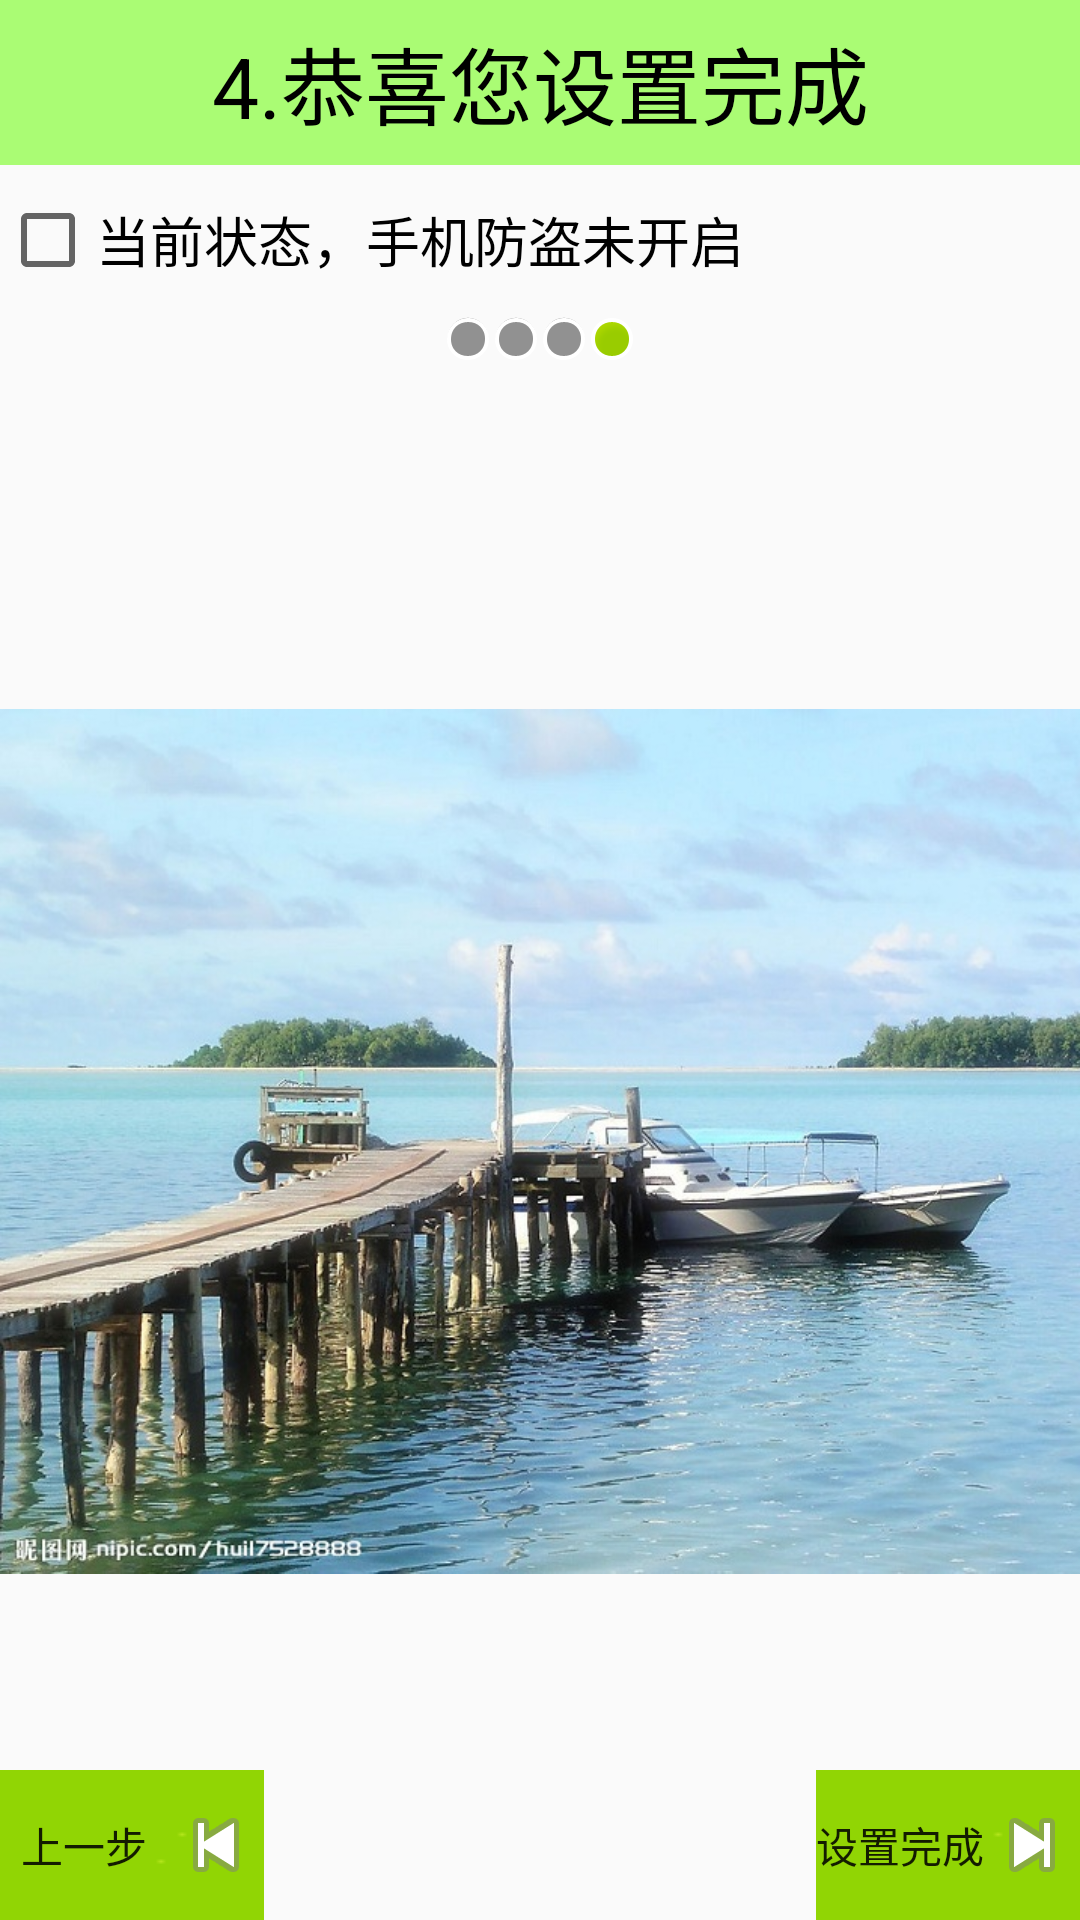

Where to tap for icons on this 1080w x 1920h app screen, as point (x, y):
presence invisible: point (468, 337), point (516, 337), point (564, 337)
presence online: point (612, 339)
